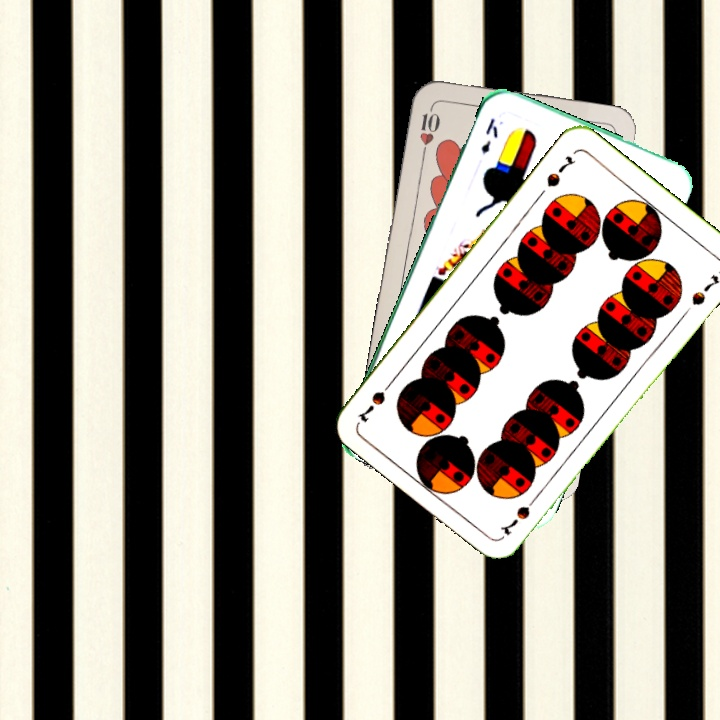EK: (476, 113, 501, 157)
H10: (415, 101, 442, 160)
S7: (496, 490, 542, 538), (542, 151, 579, 190)
